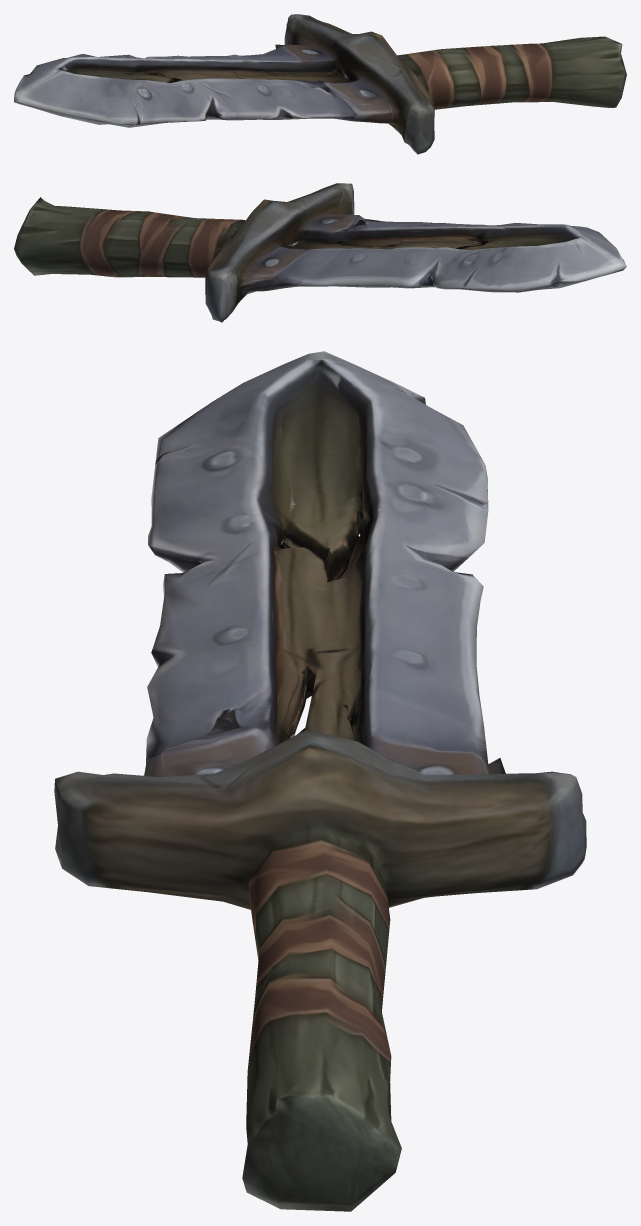
File: Gravewood Sword.glb
3 renders of one model, top to bottom at view 1: azimuth 30°, elevation 25°; view 2: azimuth 150°, elevation 25°; view 3: azimuth 270°, elevation 25°, orthographic. The views are drawn at different scales.
Parts seen in each view (by area): view 1: Mesh1.0; view 2: Mesh1.0; view 3: Mesh1.0.
Part boxes in pixels (<box>): Mesh1.0: <box>14,14,626,154</box>; Mesh1.0: <box>14,183,626,322</box>; Mesh1.0: <box>54,351,586,1211</box>.
Bounding box in the file's own units: 1.9 × 0.4993 × 0.7354.
1 material, 1 textured.
